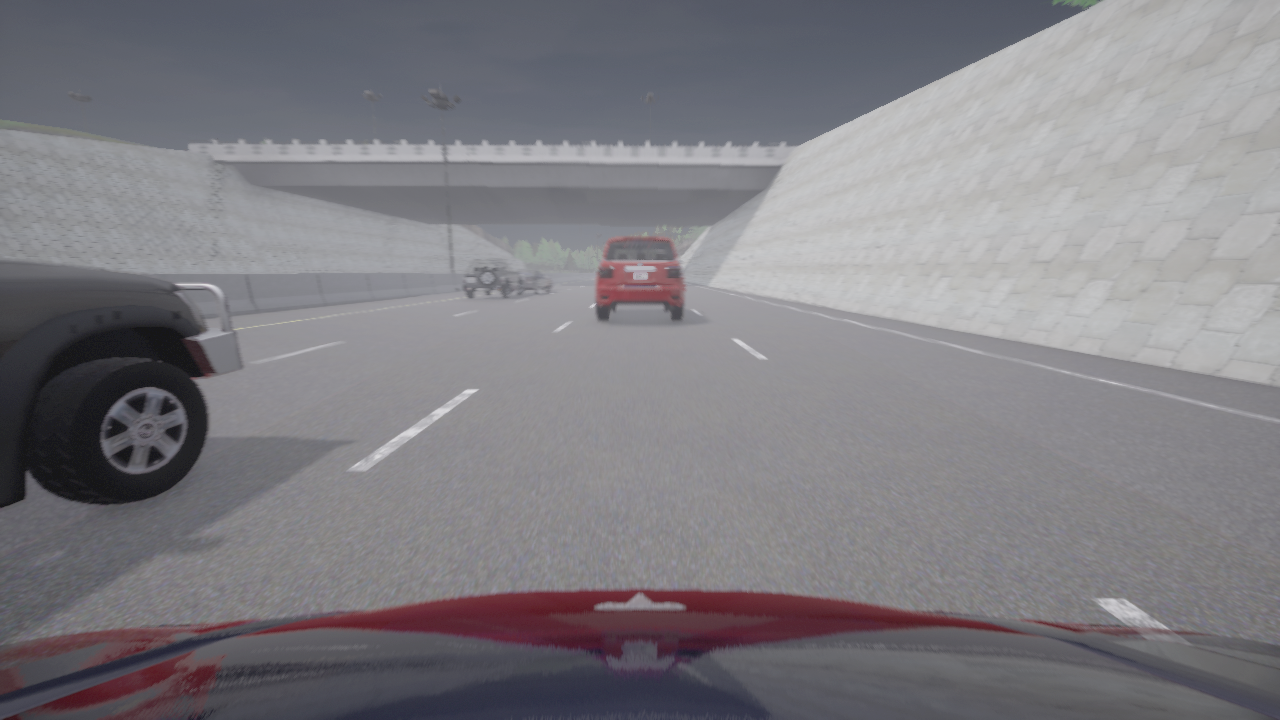cyclist: (0, 588, 1279, 719), (596, 236, 683, 320), (462, 259, 524, 298), (510, 270, 551, 294)
